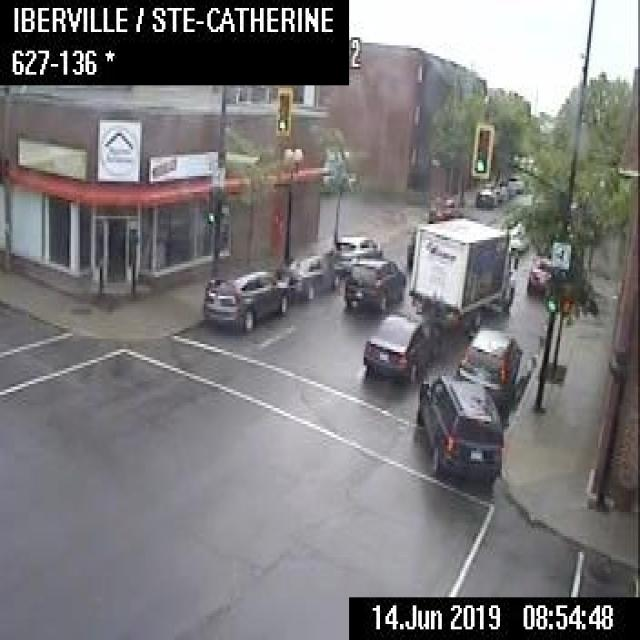vehicle: (408, 214, 515, 330), (415, 369, 503, 488), (362, 304, 438, 382), (457, 324, 521, 414), (203, 270, 290, 329), (343, 257, 406, 307), (280, 253, 340, 299), (332, 234, 379, 266), (524, 258, 549, 298), (474, 185, 494, 206), (504, 175, 522, 193), (491, 182, 507, 200)
